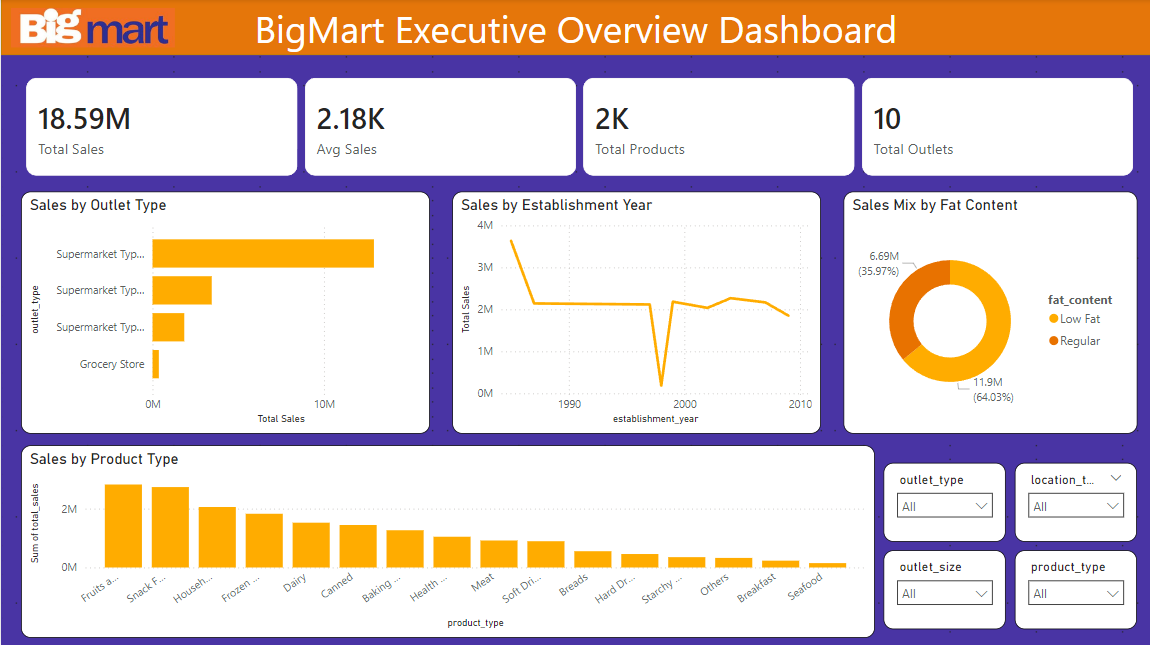

The dashboard page shown, as its layout file describes it:
{"tool":"powerbi","page":{"name":"Executive Overview","canvas":[1280,720],"ordinal":0},"visuals":[{"type":"clusteredBarChart","title":"Sales by Outlet Type","fields":{"Y":["Measures (2).Total Sales"],"Category":["warehouse vw_outlet_performance.outlet_type"]},"box":[22.3,214.3,455,269.9],"z":0},{"type":"columnChart","title":"Sales by Product Type","fields":{"Y":["Sum(warehouse vw_product_performance.total_sales)"],"Category":["warehouse vw_product_performance.product_type"]},"box":[22.3,496.7,950.3,214.3],"z":1000},{"type":"lineChart","title":"Sales by Establishment Year","fields":{"Y":["Measures (2).Total Sales"],"Category":["warehouse vw_sales_overview.establishment_year"]},"box":[502.3,214.3,410.4,269.9],"z":2000},{"type":"donutChart","title":"Sales Mix by Fat Content","fields":{"Y":["Measures (2).Total Sales"],"Category":["warehouse vw_sales_overview.fat_content"]},"box":[937.7,214.3,327,269.9],"z":3000},{"type":"slicer","fields":{"Values":["warehouse vw_sales_overview.outlet_type"]},"box":[982.3,516.2,136.3,87.7],"z":4000},{"type":"slicer","fields":{"Values":["warehouse vw_sales_overview.location_type"]},"box":[1128.3,516.2,136.3,87.7],"z":5000},{"type":"slicer","fields":{"Values":["warehouse vw_sales_overview.outlet_size"]},"box":[982.3,613.6,136.3,87.7],"z":6000},{"type":"slicer","fields":{"Values":["warehouse vw_sales_overview.product_type"]},"box":[1128.3,613.6,136.3,87.7],"z":7000},{"type":"shape","box":[0,0,1280,62.6],"z":8000},{"type":"image","box":[11.1,8.3,182.3,47.3],"z":9000},{"type":"cardVisual","fields":{"Data":["Measures (2).Total Sales","Measures (2).Avg Sales","Measures (2).Total Products","Measures (2).Total Outlets"]},"box":[11.1,71,1268.9,143.3],"z":10000}]}

Visuals, with their boxes in screenshot pixels (x1, y1, x2, y2), scaled from the page's 1280x720 canvas onto the 1150x645 screenshot:
"Sales by Outlet Type" clusteredBarChart: 20,192,429,434
"Sales by Product Type" columnChart: 20,445,874,637
"Sales by Establishment Year" lineChart: 451,192,820,434
"Sales Mix by Fat Content" donutChart: 842,192,1136,434
slicer - warehouse vw_sales_overview.outlet_type: 883,462,1005,541
slicer - warehouse vw_sales_overview.location_type: 1014,462,1136,541
slicer - warehouse vw_sales_overview.outlet_size: 883,550,1005,628
slicer - warehouse vw_sales_overview.product_type: 1014,550,1136,628
shape: 0,0,1149,56
image: 10,7,174,50
cardVisual - Measures (2).Total Sales x Measures (2).Avg Sales: 10,64,1149,192
